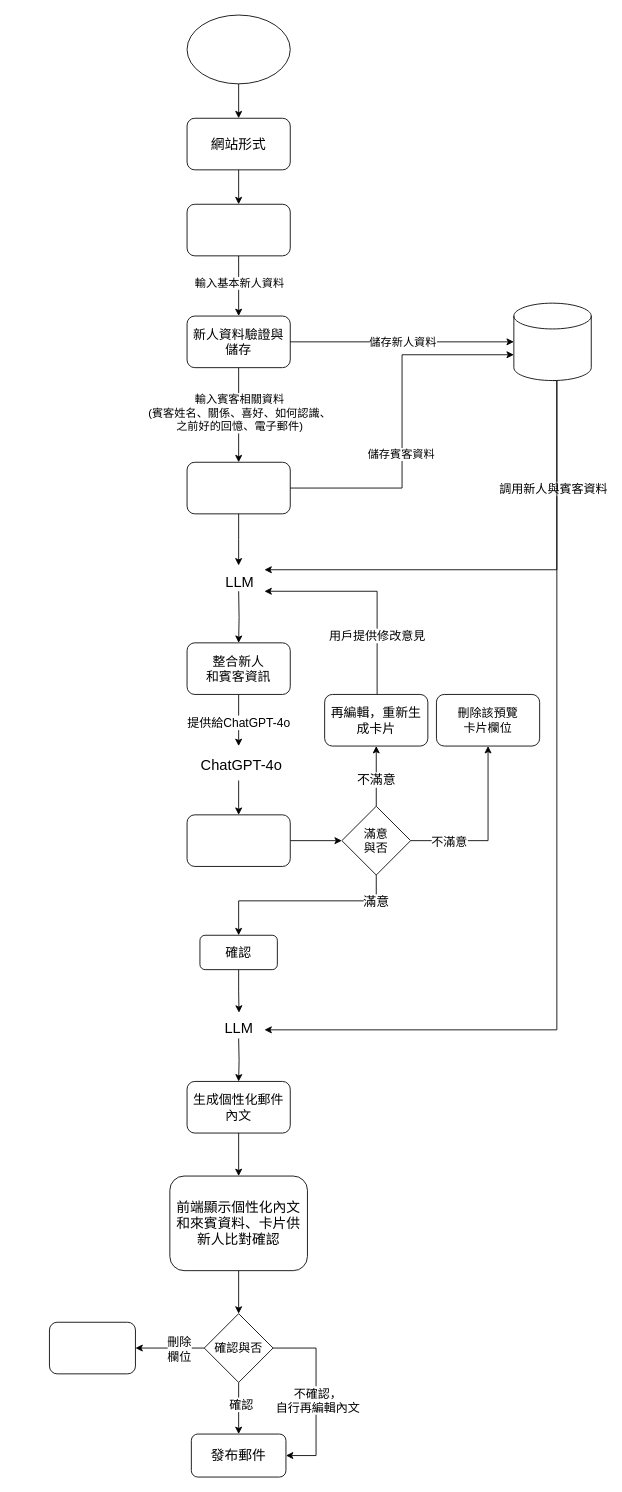
This 622x1492 diagram has some shape labels left out. Each missing label, with the box of its shape:
UI: (186, 203, 290, 256)
使用者 (婚姻新人): (186, 14, 290, 84)
刪除指定 賓客欄位: (49, 1321, 135, 1374)
新人與賓客 資料庫: (513, 302, 591, 381)
生成預覽卡片: (186, 814, 290, 866)
賓客名單解析 與驗證: (186, 461, 290, 514)
